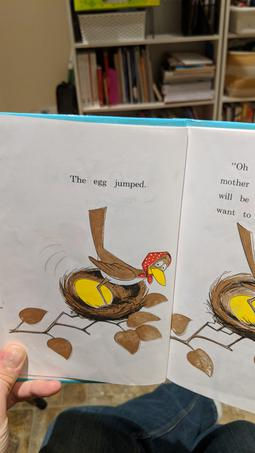text block: (207, 154, 255, 221), (63, 166, 158, 195)
